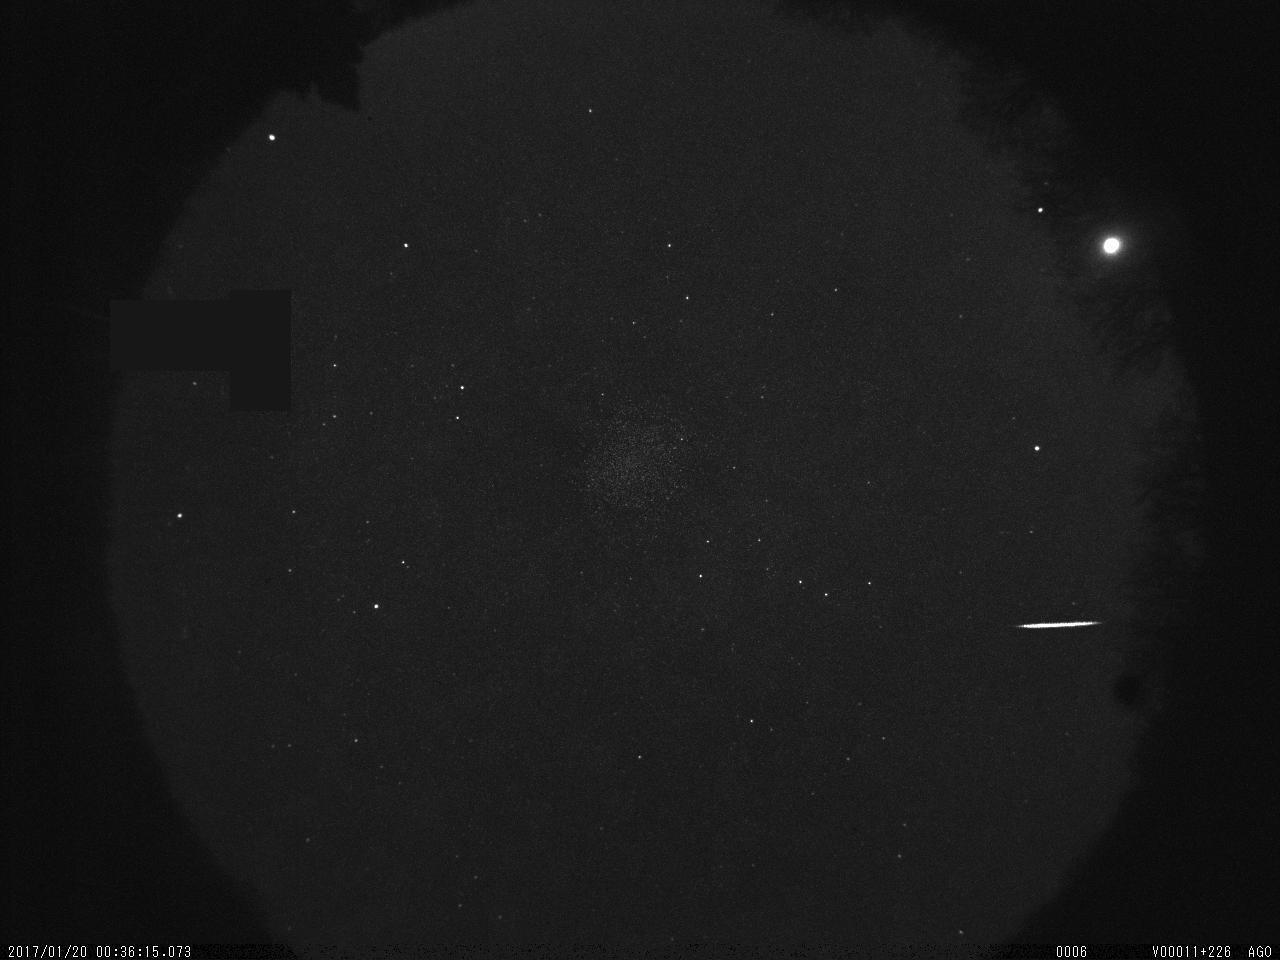meteor: (1005, 611, 1123, 639)
